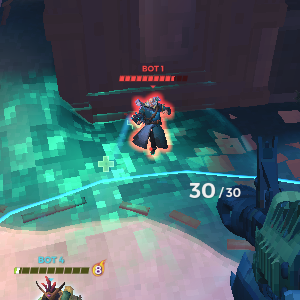model: (129, 92, 171, 159)
